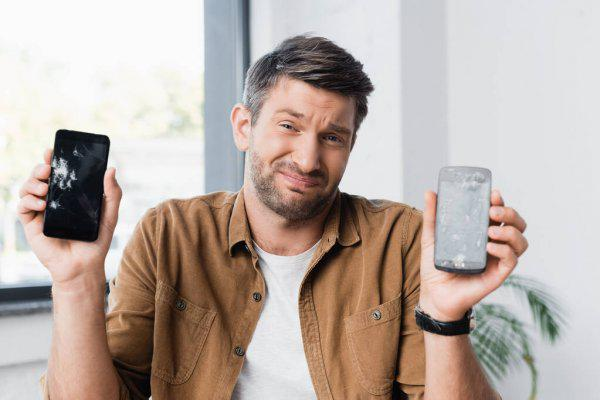mobile: (43, 130, 110, 242), (434, 166, 491, 275)
